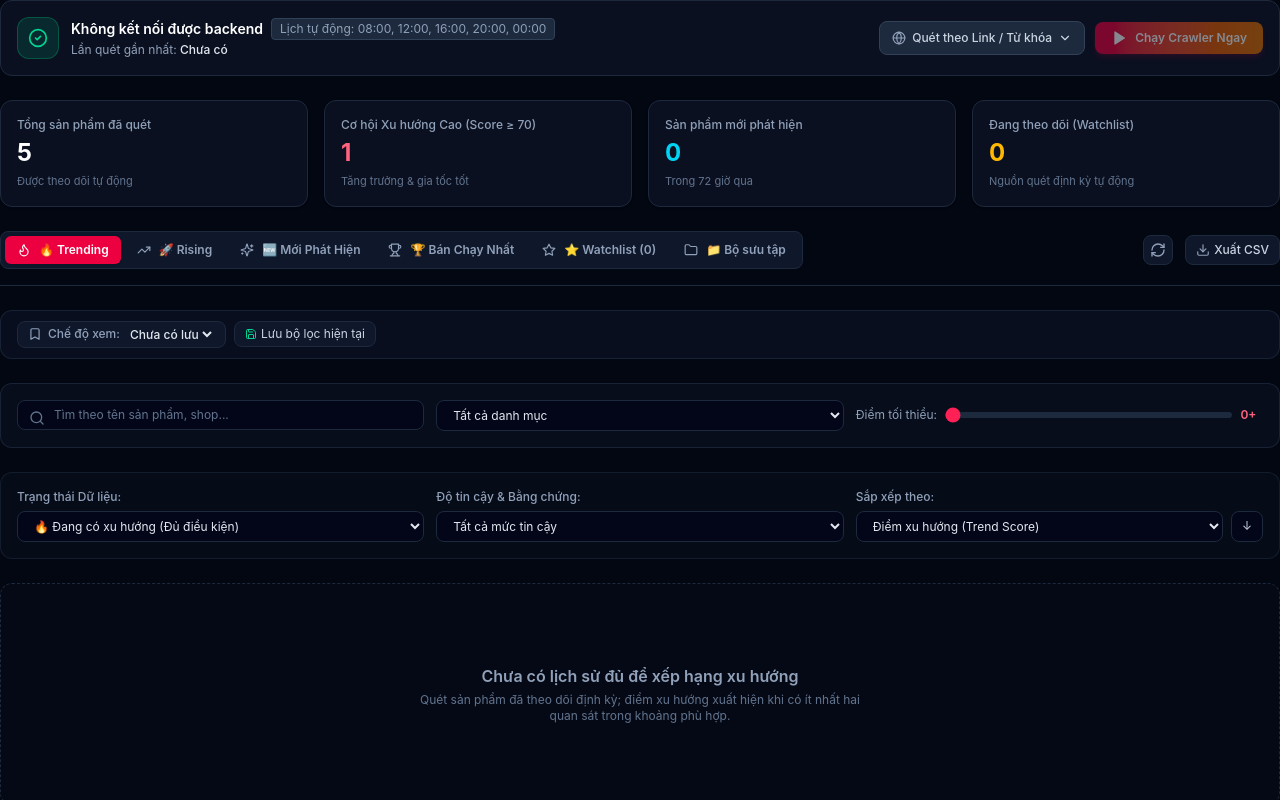
it: Phase 3 Frontend: Watchlist & Alerts Suite › Dashboard Watchlist Tab › displays helpful empty state when Watchlist has zero items
Click the button "⭐ Watchlist (0)".
click(599, 250)  # box [530,236,668,264]
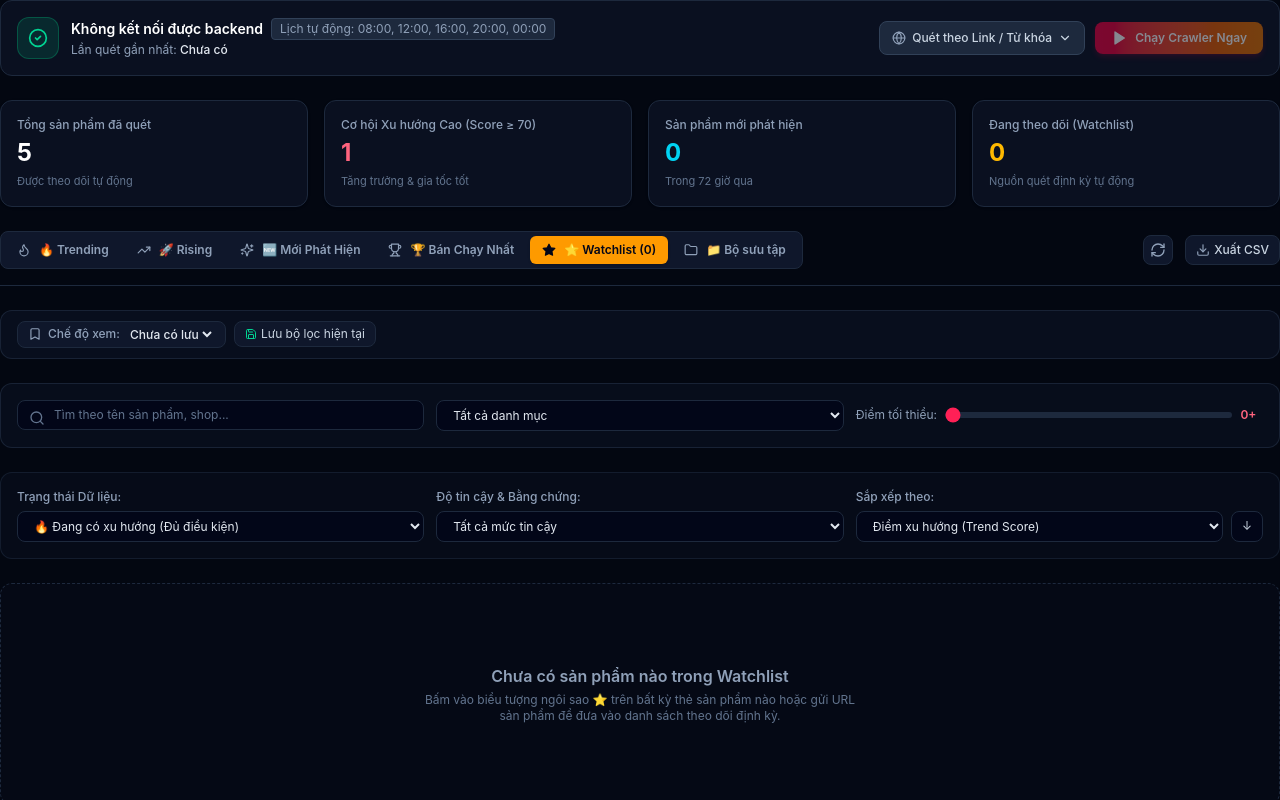
Now the text "Chưa có sản phẩm nào trong Watchlist" is shown, box [491,666,789,686]
